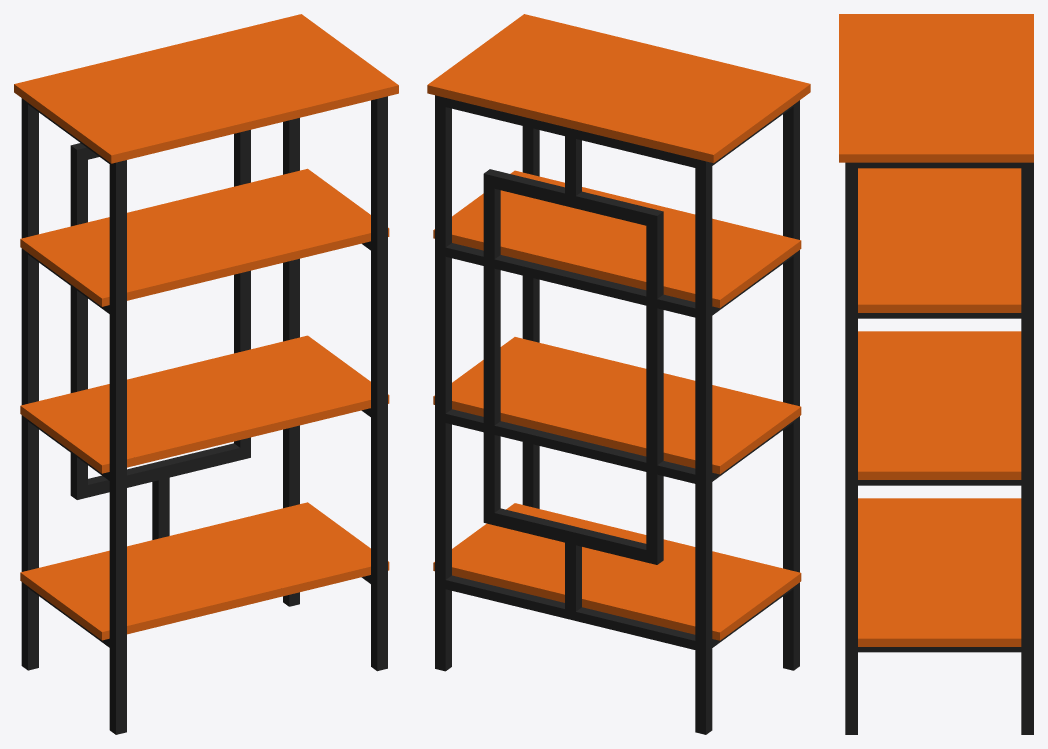
File: Living room shelve.fbx
3 views of the same model, side by side, from view 1: azimuth 30°, elevation 25°; view 2: azimuth 150°, elevation 25°; view 3: azimuth 270°, elevation 25° (orthographic).
Visible parts, largest first — view 1: Living room shelf; view 2: Living room shelf; view 3: Living room shelf.
Part boxes in pixels (bbox=[...]): Living room shelf: bbox=[14, 14, 398, 734]; Living room shelf: bbox=[427, 14, 810, 734]; Living room shelf: bbox=[839, 14, 1033, 734].
Bounding box in the file's own units: 0.8968 × 1.74 × 0.5263.
